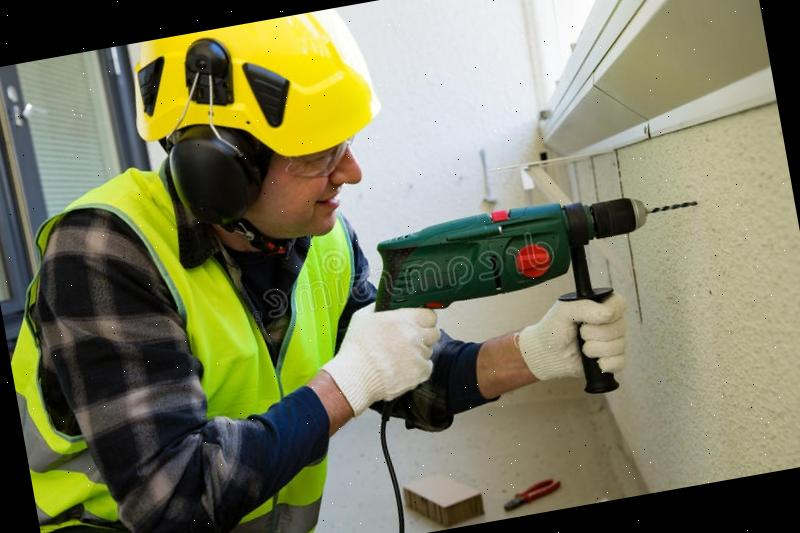helmet: (144, 3, 397, 188)
wear: (0, 227, 403, 533)
